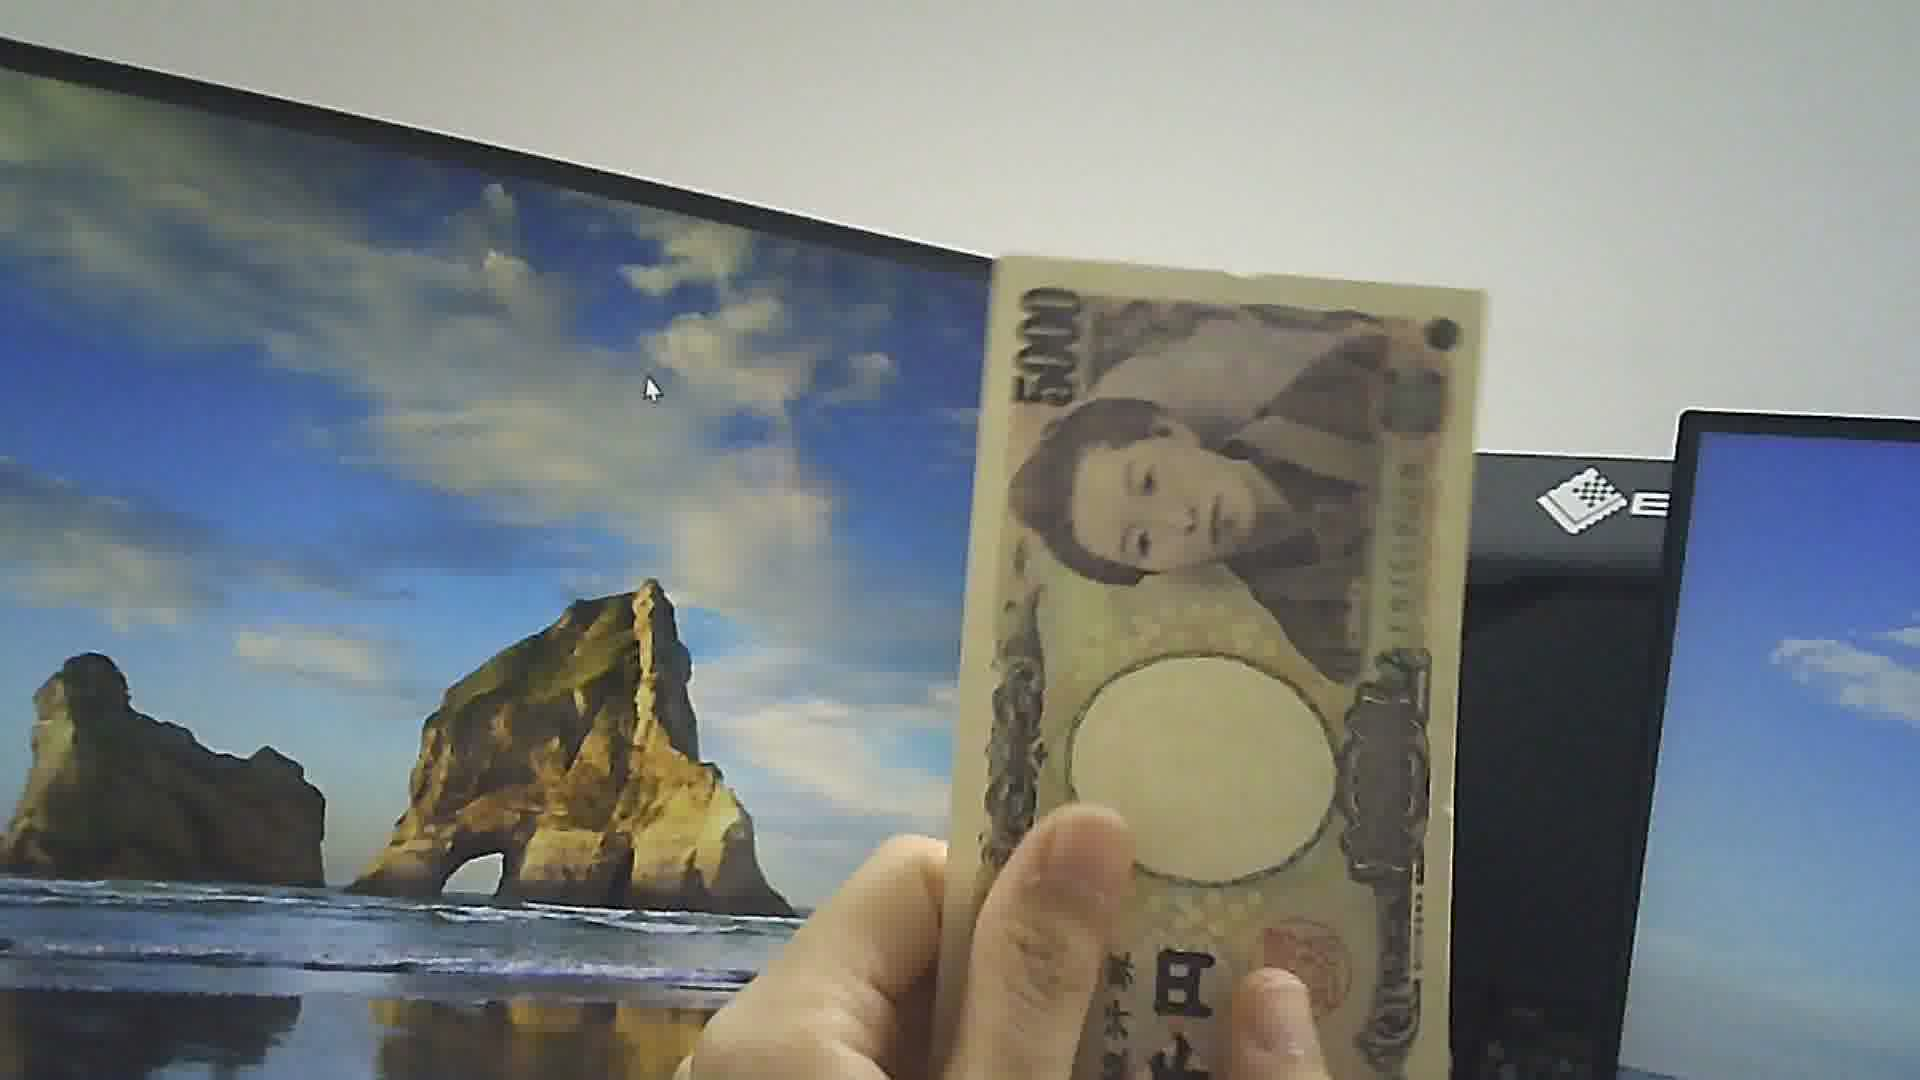5,000 Yen: (938, 235, 1461, 1079)
